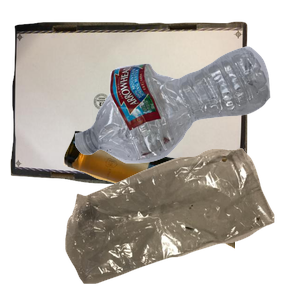cardboard: (10, 19, 250, 199)
glass: (60, 128, 300, 300)
plastic: (72, 44, 300, 200)
trash: (63, 145, 300, 300)
